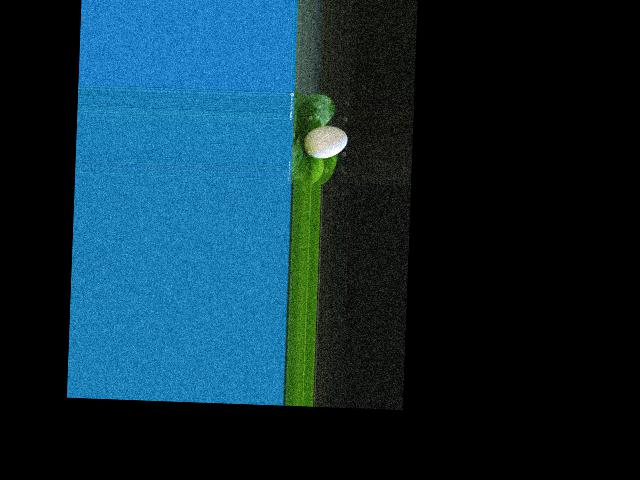egg: (302, 125, 347, 159)
